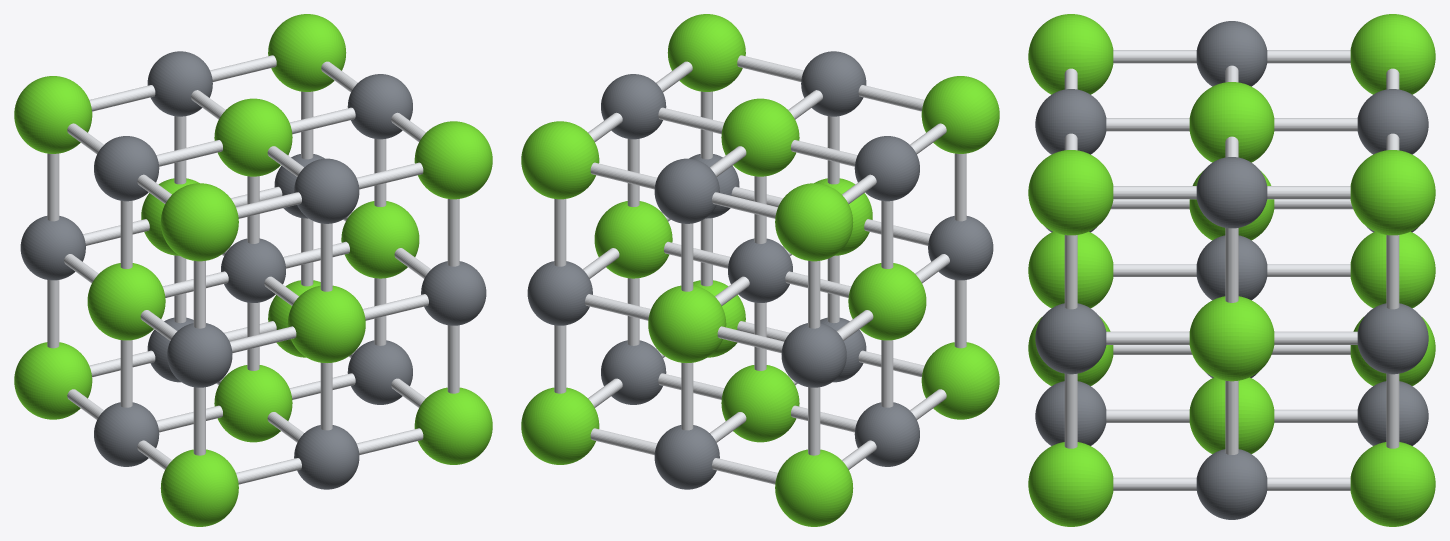
File: potassium_chloride.glb
3 renders of one model, left to right at view 1: azimuth 30°, elevation 25°; view 2: azimuth 150°, elevation 25°; view 3: azimuth 270°, elevation 25°, orthographic. The views are drawn at different scales.
Parts seen in each view (by area): view 1: Potassium_K_9, Potassium_K_3, Potassium_K_27, Potassium_K_21, Potassium_K_15, Potassium_K_7, Potassium_K_5, Potassium_K_1, Potassium_K_17, Potassium_K_25, Potassium_K_23, Potassium_K_11 (+49 smaller); view 2: Potassium_K_7, Potassium_K_1, Potassium_K_25, Potassium_K_19, Potassium_K_13, Potassium_K_9, Potassium_K_5, Potassium_K_3, Potassium_K_17, Potassium_K_27, Potassium_K_23, Potassium_K_11 (+49 smaller); view 3: Potassium_K_25, Potassium_K_27, Potassium_K_23, Potassium_K_19, Potassium_K_21, Potassium_K_17, Potassium_K_7, Potassium_K_9, Potassium_K_11, Potassium_K_13, Potassium_K_15, Chlorine_Cl_26 (+36 smaller).
Part boxes in pixels (x1,y1,x2,y2): Potassium_K_9: (160, 183, 238, 261); Potassium_K_3: (160, 449, 238, 526); Potassium_K_27: (414, 121, 492, 199); Potassium_K_21: (414, 387, 492, 464); Potassium_K_15: (287, 285, 365, 362); Potassium_K_7: (14, 76, 92, 153); Potassium_K_5: (87, 263, 165, 340); Potassium_K_1: (14, 342, 92, 419); Potassium_K_17: (214, 98, 292, 176); Potassium_K_25: (268, 14, 346, 91); Potassium_K_23: (341, 201, 419, 278); Potassium_K_11: (214, 365, 292, 442); Potassium_K_7: (775, 183, 853, 261); Potassium_K_1: (775, 449, 853, 526); Potassium_K_25: (521, 121, 599, 199); Potassium_K_19: (521, 387, 599, 464); Potassium_K_13: (648, 285, 726, 362); Potassium_K_9: (921, 76, 999, 153); Potassium_K_5: (848, 263, 926, 340); Potassium_K_3: (921, 342, 999, 419); Potassium_K_17: (721, 98, 799, 176); Potassium_K_27: (667, 14, 745, 91); Potassium_K_23: (594, 201, 672, 278); Potassium_K_11: (721, 365, 799, 442); Potassium_K_25: (1350, 150, 1435, 235); Potassium_K_27: (1028, 150, 1113, 235); Potassium_K_23: (1189, 296, 1274, 381); Potassium_K_19: (1350, 442, 1435, 526); Potassium_K_21: (1028, 442, 1113, 526); Potassium_K_17: (1189, 82, 1274, 162); Potassium_K_7: (1350, 14, 1435, 94); Potassium_K_9: (1028, 14, 1113, 94); Potassium_K_11: (1189, 377, 1274, 453); Potassium_K_13: (1350, 231, 1435, 308); Potassium_K_15: (1028, 231, 1113, 308); Chlorine_Cl_26: (1196, 157, 1267, 228).
Bounding box in the file's own units: 2.33 × 2.33 × 2.33.
